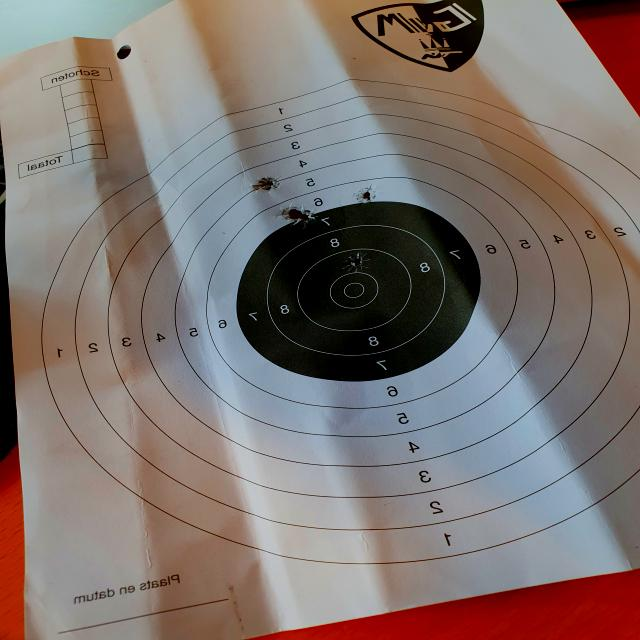5: (251, 171, 284, 194)
6: (280, 204, 304, 222)
7: (354, 185, 381, 203), (298, 212, 320, 228)
9: (343, 248, 368, 272)
Target: (40, 78, 640, 566)
black_contour: (236, 201, 482, 383)
